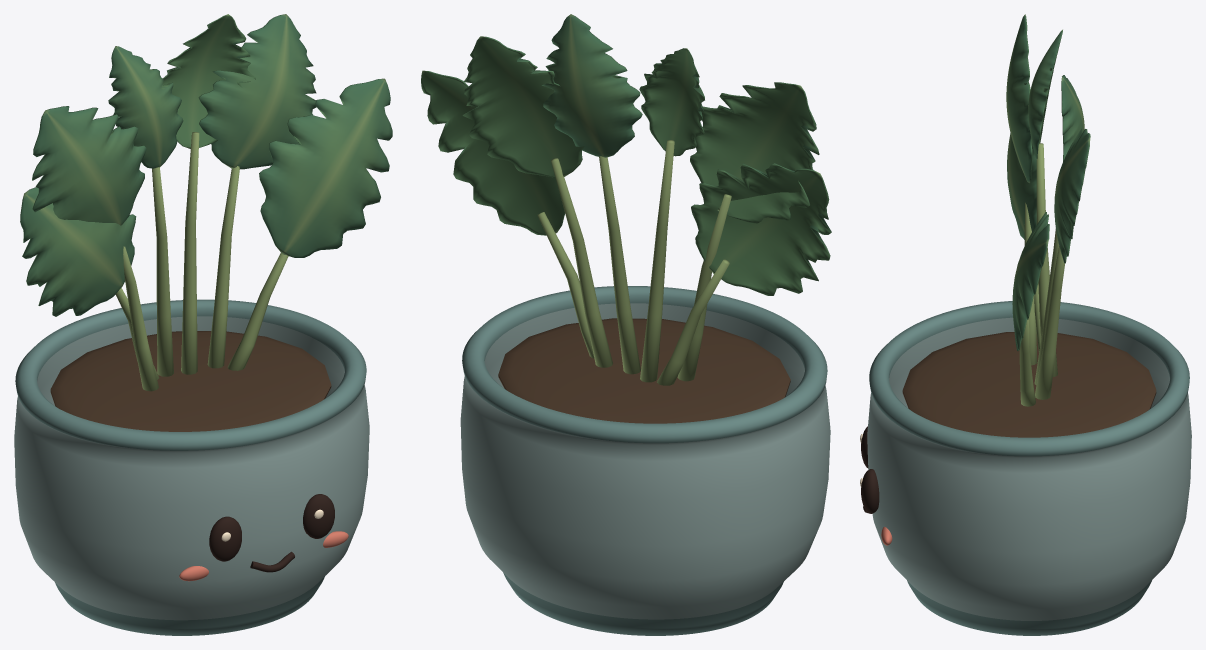
The model's file is white-bird-of-paradise-v1.glb.
The picture shows the model from 3 angles, left to right: view 1: azimuth 30°, elevation 25°; view 2: azimuth 150°, elevation 25°; view 3: azimuth 270°, elevation 25°; orthographic projection. The views are drawn at different scales.
Visible parts, largest first — view 1: Wheel-thrown ceramic, White bird of paradise split fans, Soil, Eye, Eye.001; view 2: Wheel-thrown ceramic, White bird of paradise split fans, Soil; view 3: Wheel-thrown ceramic, Soil, White bird of paradise split fans, Eye.001.
Part boxes in pixels (x1=…): Wheel-thrown ceramic: x1=14, y1=299, x2=369, y2=635; White bird of paradise split fans: x1=20, y1=14, x2=392, y2=391; Soil: x1=50, y1=331, x2=331, y2=431; Eye: x1=209, y1=516, x2=241, y2=561; Eye.001: x1=303, y1=494, x2=334, y2=538; Wheel-thrown ceramic: x1=460, y1=286, x2=830, y2=635; White bird of paradise split fans: x1=421, y1=14, x2=831, y2=385; Soil: x1=498, y1=318, x2=790, y2=423; Wheel-thrown ceramic: x1=867, y1=301, x2=1191, y2=635; Soil: x1=902, y1=332, x2=1156, y2=437; White bird of paradise split fans: x1=1006, y1=14, x2=1090, y2=406; Eye.001: x1=861, y1=469, x2=879, y2=513.
Size of the model in its own units: 1.97 by 2.71 by 1.53.
